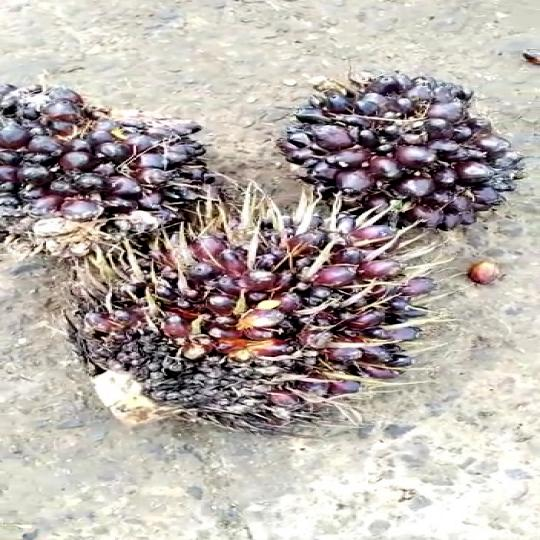kurang masak: (80, 203, 431, 453), (252, 69, 540, 242), (0, 69, 232, 258)
